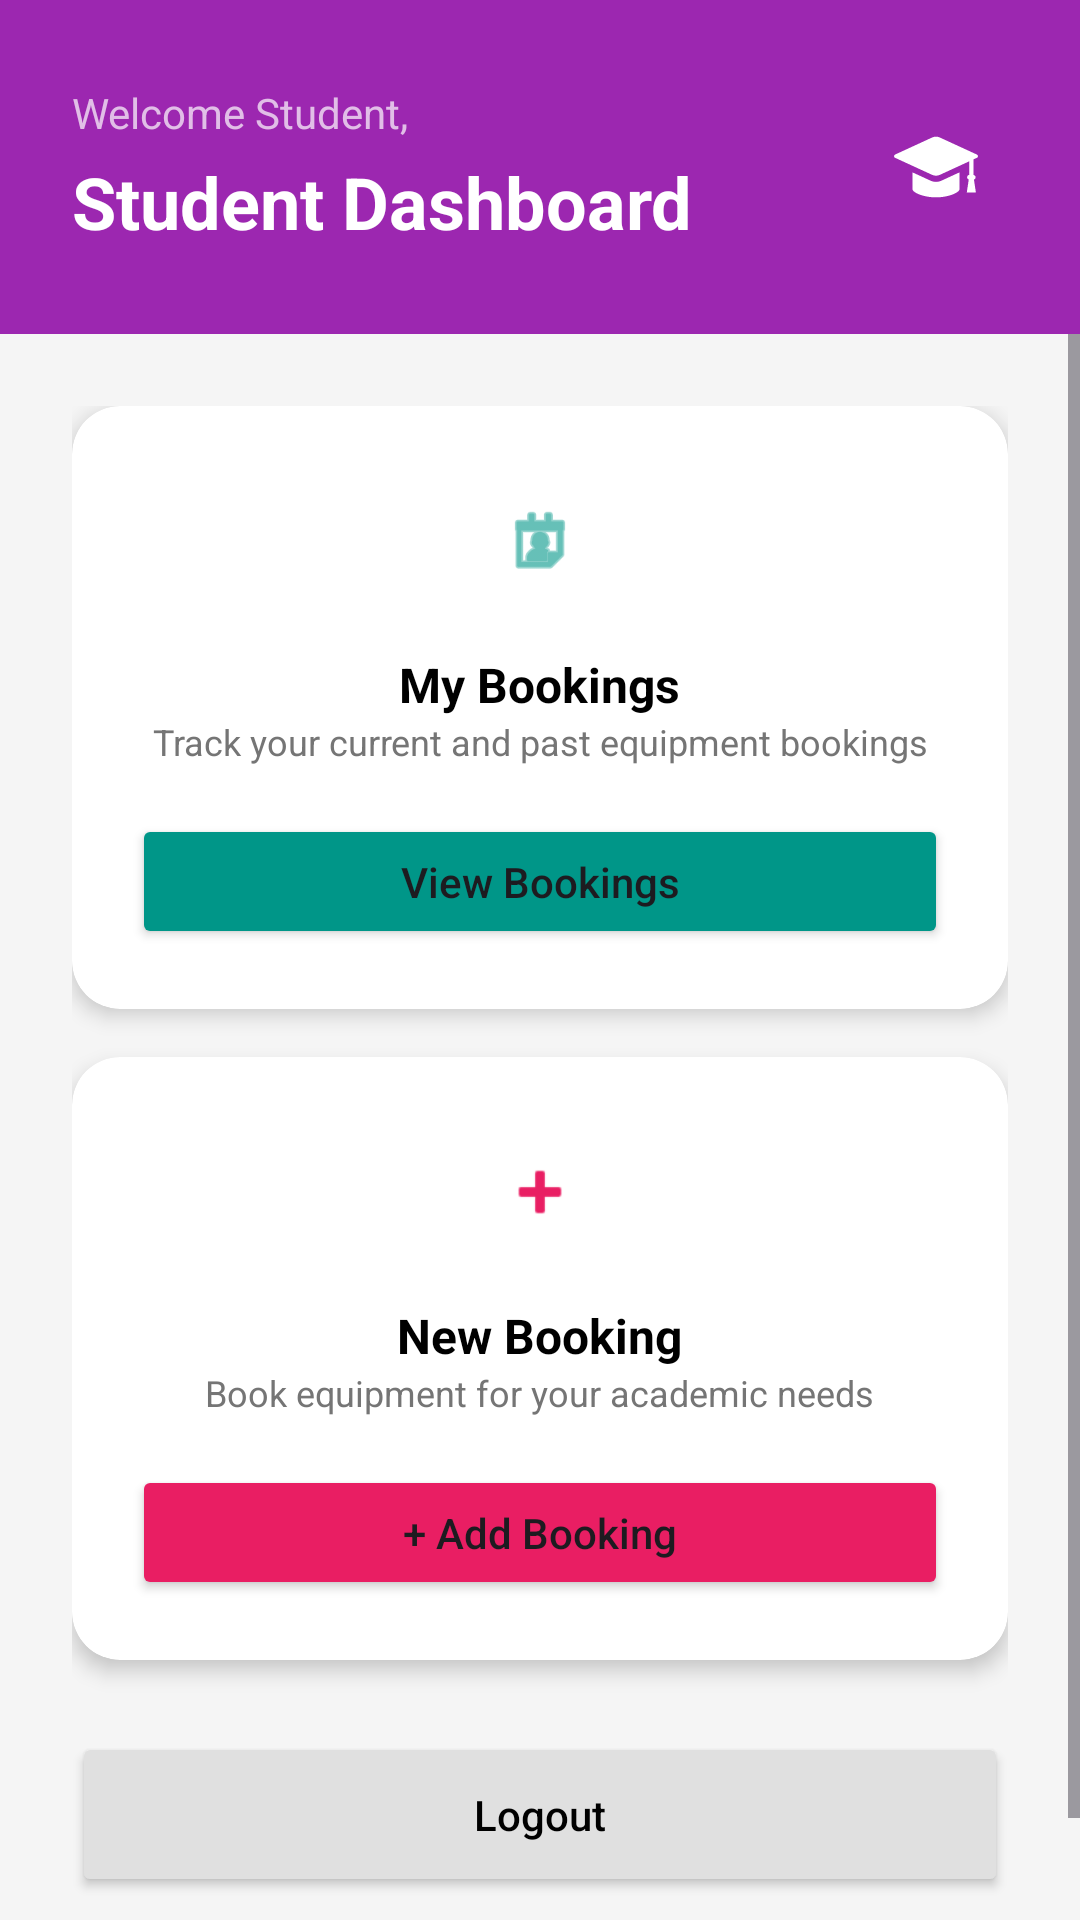

Icons on this 1080×1920 Android screen, each with its box as (x1, y1, x2, y2):
add: (518, 1170, 562, 1214)
calendar: (515, 512, 565, 569)
student: (894, 136, 978, 198)
